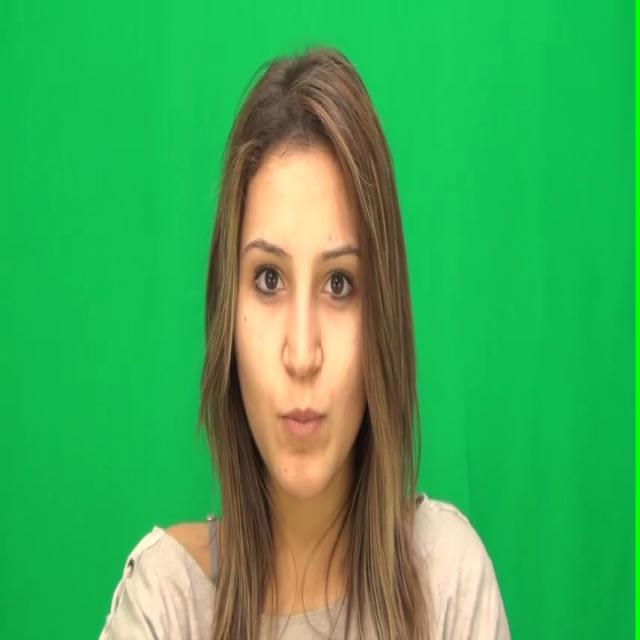Engaged: (229, 134, 374, 494)
